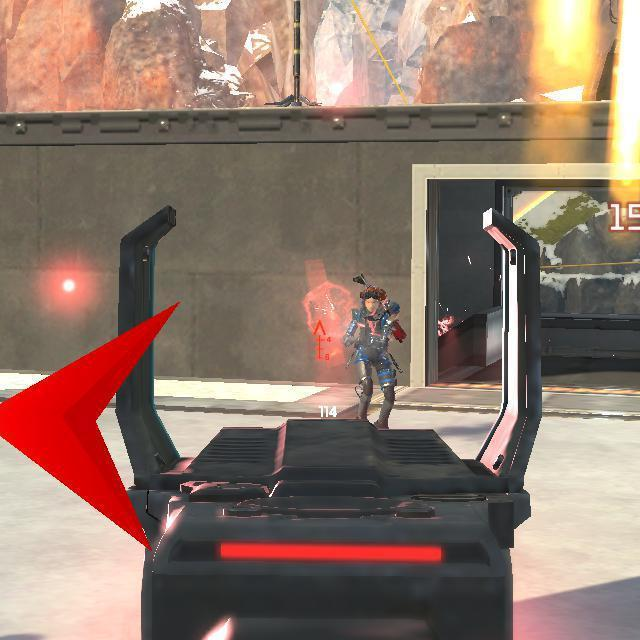avatar: (340, 284, 402, 429)
